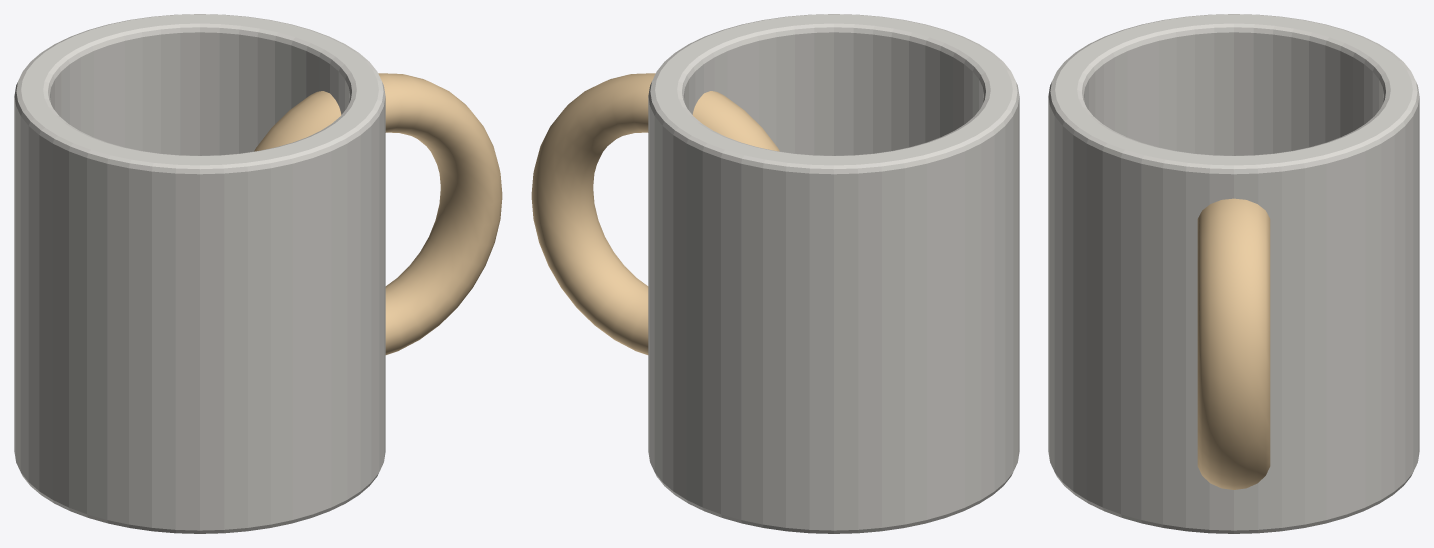
Rendered from p2s_ceramic_mug.glb.
The picture shows the model from 3 angles, left to right: view 1: azimuth 30°, elevation 25°; view 2: azimuth 150°, elevation 25°; view 3: azimuth 270°, elevation 25°; orthographic projection.
Visible parts, largest first — view 1: MugBody, Torus; view 2: MugBody, Torus; view 3: MugBody, Torus.
Boxes of the visible parts, x1=… form: MugBody: x1=14, y1=14, x2=385, y2=533; Torus: x1=254, y1=73, x2=502, y2=354; MugBody: x1=648, y1=14, x2=1019, y2=533; Torus: x1=531, y1=73, x2=779, y2=354; MugBody: x1=1048, y1=14, x2=1419, y2=533; Torus: x1=1197, y1=198, x2=1270, y2=489.
Bounding box in the file's own units: 0.1195 × 0.092 × 0.084.
